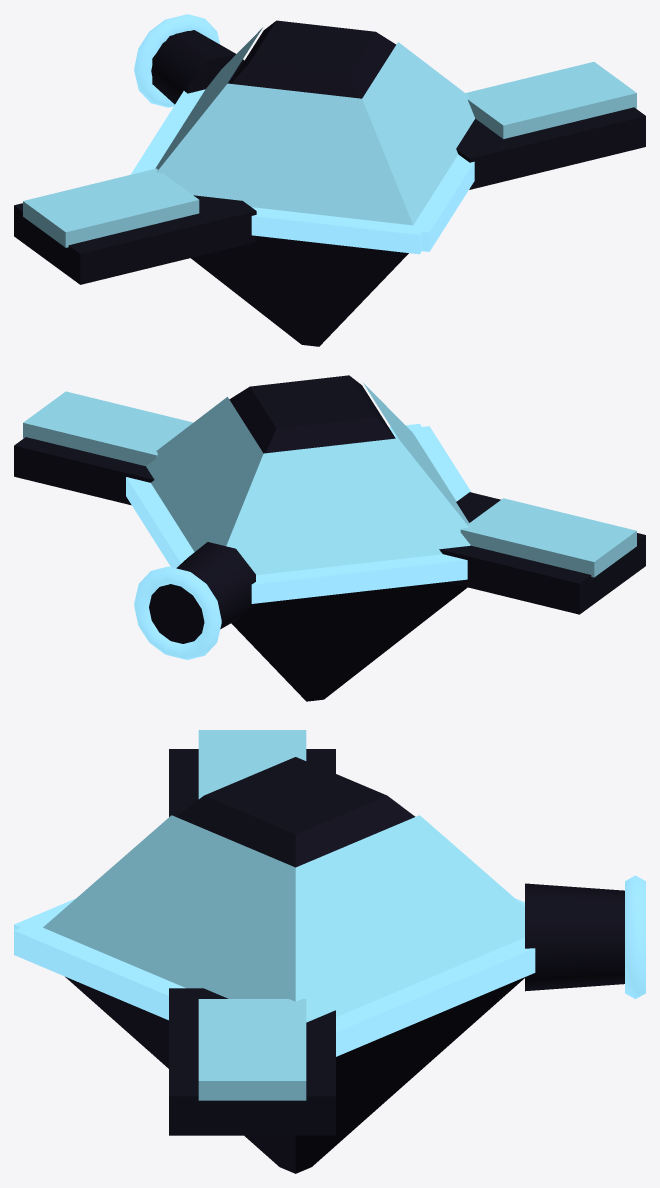
File: option_satellite.glb
The picture shows the model from 3 angles, top to bottom: view 1: azimuth 30°, elevation 25°; view 2: azimuth 150°, elevation 25°; view 3: azimuth 270°, elevation 25°; orthographic projection. The views are drawn at different scales.
Visible parts, largest first — view 1: upper_facets, lower_pyramid, vane_port, top_plate_recess, vane_starboard, vane_plate_port, vane_plate_starboard, equator_light_2, gun_aperture, equator_light_1, aperture_light_ring, equator_light_3; view 2: upper_facets, lower_pyramid, top_plate_recess, vane_plate_port, vane_port, vane_plate_starboard, equator_light_3, gun_aperture, vane_starboard, aperture_light_ring, equator_light_4, equator_light_2; view 3: upper_facets, top_plate_recess, lower_pyramid, vane_starboard, vane_plate_starboard, gun_aperture, equator_light_4, equator_light_1, vane_plate_port, aperture_light_ring, vane_port.
Part boxes in pixels (<box>): upper_facets: <box>155,27,474,225</box>; lower_pyramid: <box>191,236,408,346</box>; vane_port: <box>14,195,256,284</box>; top_plate_recess: <box>230,20,396,98</box>; vane_starboard: <box>456,107,645,189</box>; vane_plate_port: <box>23,168,199,247</box>; vane_plate_starboard: <box>465,62,636,138</box>; equator_light_2: <box>251,207,424,254</box>; gun_aperture: <box>151,30,244,104</box>; equator_light_1: <box>410,154,474,251</box>; aperture_light_ring: <box>134,14,219,107</box>; equator_light_3: <box>131,89,205,174</box>; upper_facets: <box>146,383,470,575</box>; lower_pyramid: <box>231,582,467,701</box>; top_plate_recess: <box>229,375,395,453</box>; vane_plate_port: <box>460,498,636,577</box>; vane_port: <box>439,492,645,614</box>; vane_plate_starboard: <box>23,391,193,466</box>; equator_light_3: <box>251,554,467,603</box>; gun_aperture: <box>149,542,255,643</box>; vane_starboard: <box>14,437,154,505</box>; aperture_light_ring: <box>134,566,221,659</box>; equator_light_4: <box>126,477,194,568</box>; equator_light_2: <box>409,426,470,501</box>; upper_facets: <box>43,815,524,1022</box>; top_plate_recess: <box>176,757,415,867</box>; lower_pyramid: <box>65,976,524,1173</box>; vane_starboard: <box>169,988,335,1135</box>; vane_plate_starboard: <box>198,999,306,1100</box>; gun_aperture: <box>525,883,624,991</box>; equator_light_4: <box>336,937,535,1056</box>; equator_light_1: <box>14,922,185,1020</box>; vane_plate_port: <box>198,730,306,798</box>; aperture_light_ring: <box>625,875,645,998</box>; vane_port: <box>169,749,335,816</box>.
Bounding box in the file's own units: 3.08 × 1.52 × 2.34.
